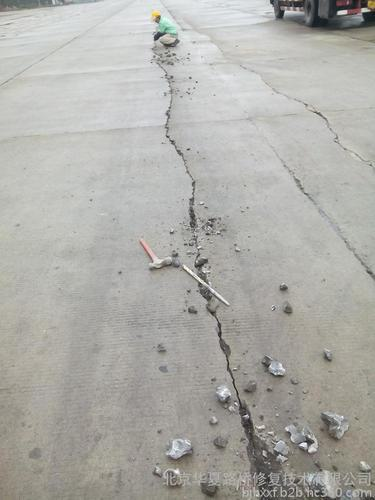Crack: (151, 41, 308, 500), (208, 41, 375, 171)
